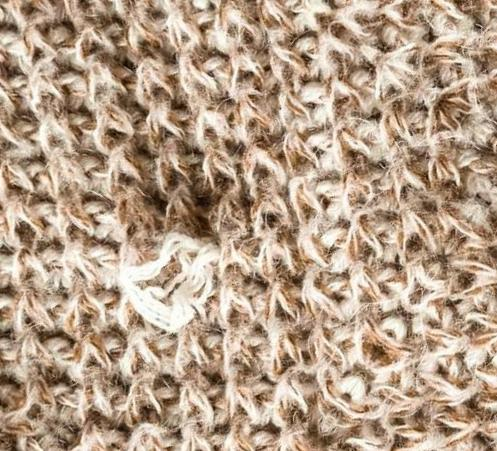snag: (115, 223, 229, 337)
